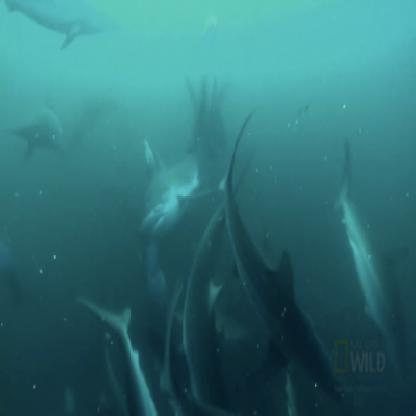Shark -Selachimorpha-: (208, 109, 356, 401), (130, 127, 227, 236)
